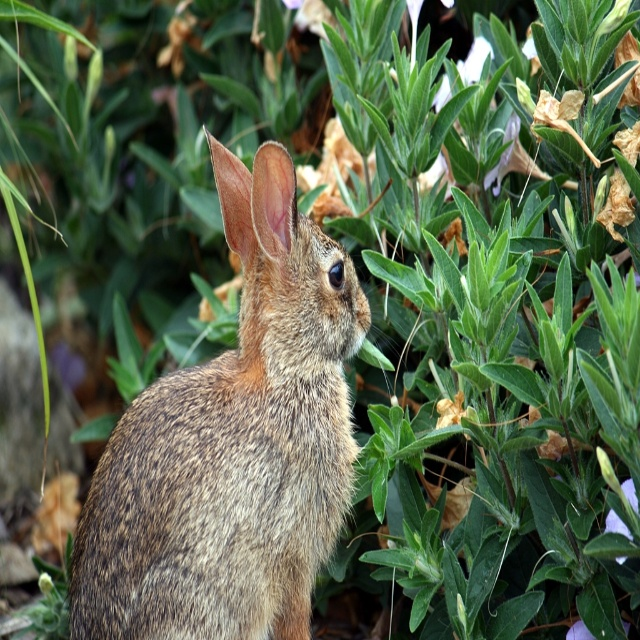Rabbit: (70, 125, 389, 639)
